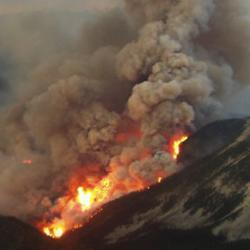fire: (45, 219, 66, 238), (77, 182, 91, 210), (171, 132, 186, 152)
smoke: (127, 24, 206, 112), (1, 96, 64, 191)
